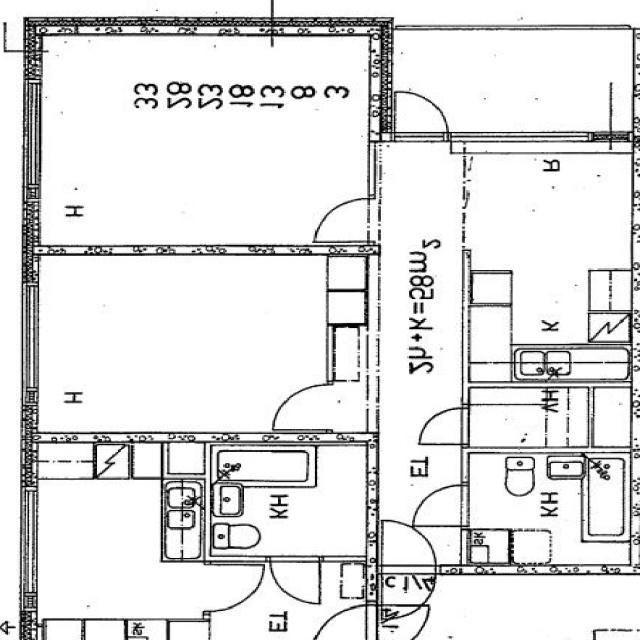door: (382, 517, 436, 574), (382, 565, 436, 621), (396, 87, 448, 141), (275, 256, 333, 302), (414, 485, 471, 527), (419, 408, 471, 445)
